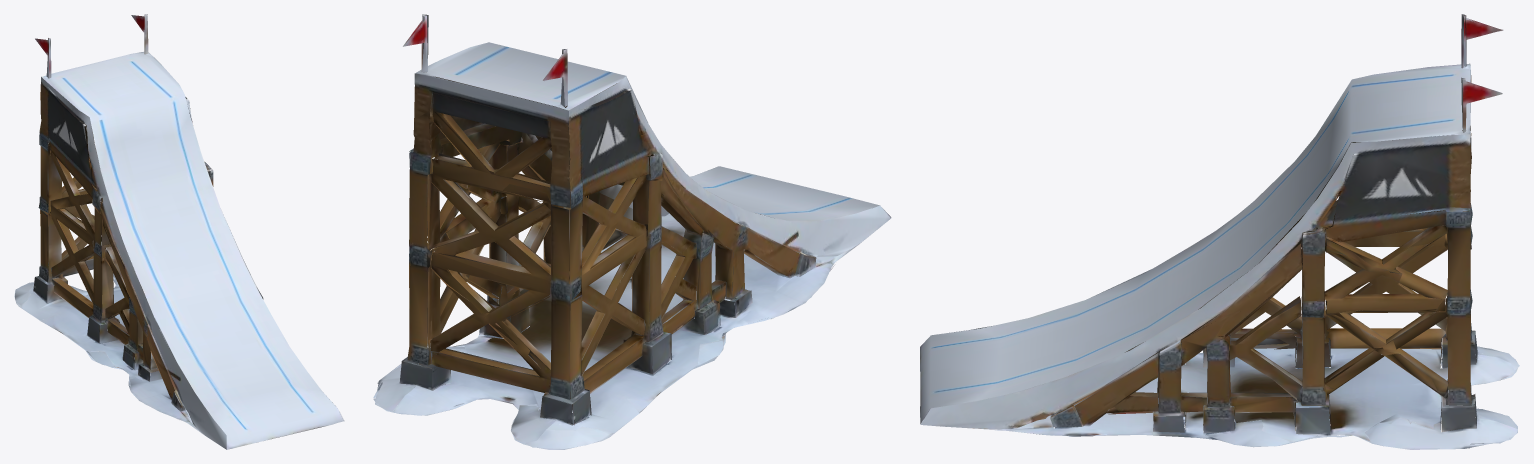
Rendered from ramp_gen_b.glb.
3 renders of one model, left to right at view 1: azimuth 30°, elevation 25°; view 2: azimuth 150°, elevation 25°; view 3: azimuth 270°, elevation 25°, orthographic. The views are drawn at different scales.
Parts seen in each view (by area): view 1: ramp_gen.001; view 2: ramp_gen.001; view 3: ramp_gen.001.
Boxes of the visible parts, x1,y1,x2,y2 form: ramp_gen.001: (14, 14, 344, 449); ramp_gen.001: (373, 14, 891, 449); ramp_gen.001: (920, 14, 1519, 449).
Size of the model in its own units: 5.35 by 8.08 by 12.37.
1 material, 1 textured.
